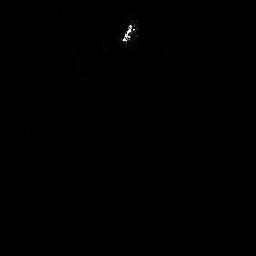ship: (118, 19, 140, 45)
